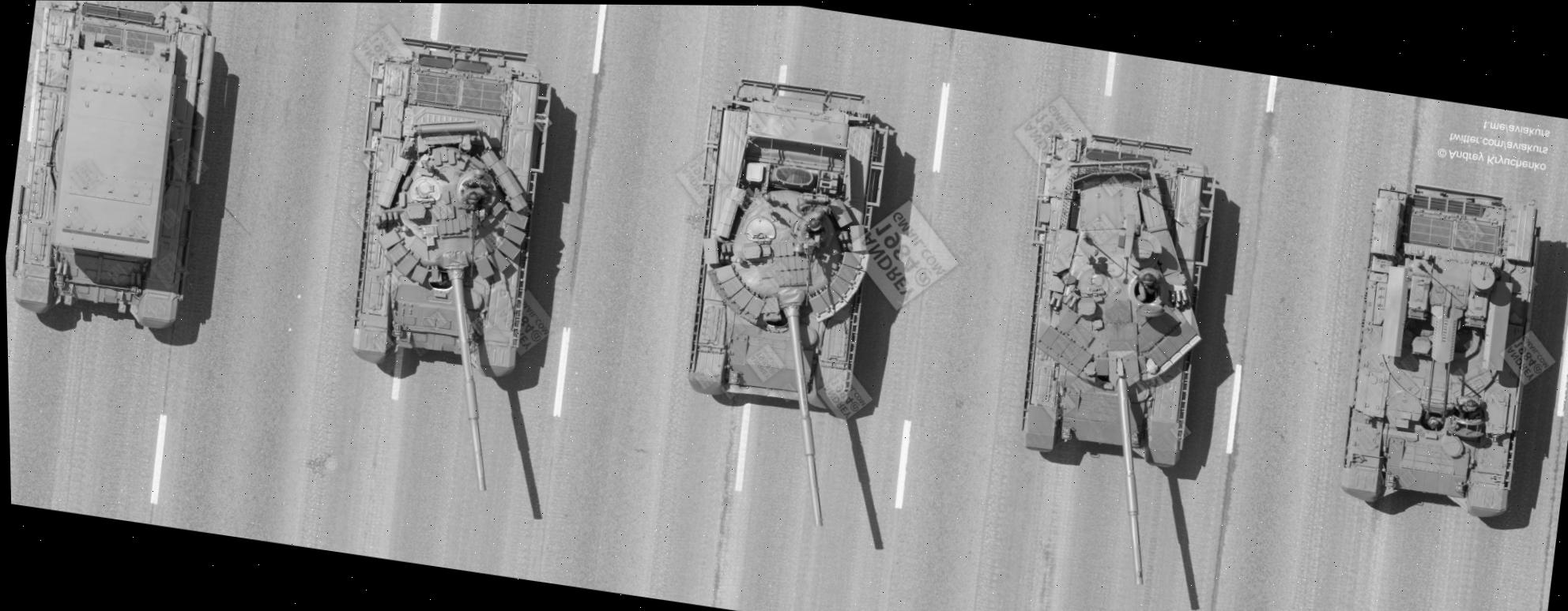armored_car: (1315, 159, 1559, 538), (0, 0, 234, 347)
tank: (305, 24, 597, 513), (655, 59, 921, 552), (973, 117, 1245, 593)
